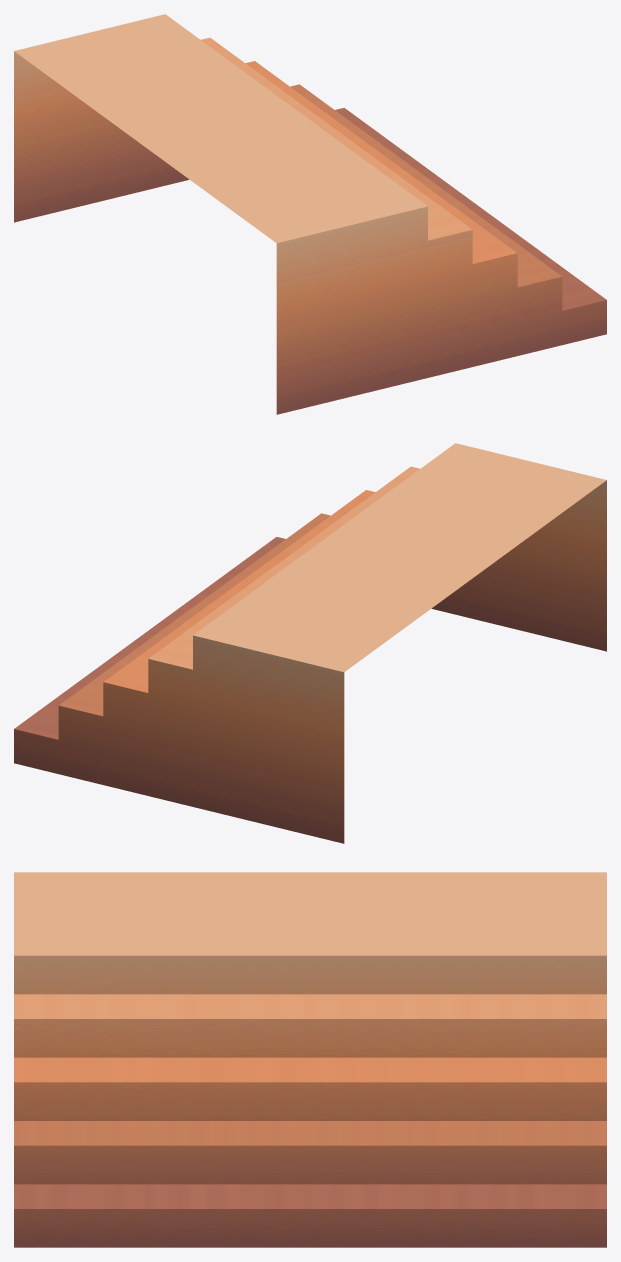
File: StairsShort.fbx
3 views of the same model, one above another, from view 1: azimuth 30°, elevation 25°; view 2: azimuth 150°, elevation 25°; view 3: azimuth 270°, elevation 25° (orthographic). The views are drawn at different scales.
Visible parts, largest first — view 1: pCube1; view 2: pCube1; view 3: pCube1.
Boxes of the visible parts, x1,y1,x2,y2 form: pCube1: [14, 14, 606, 414]; pCube1: [14, 443, 606, 843]; pCube1: [14, 872, 606, 1247].
Bounding box in the file's own units: 14.77 × 7.33 × 20.34.
